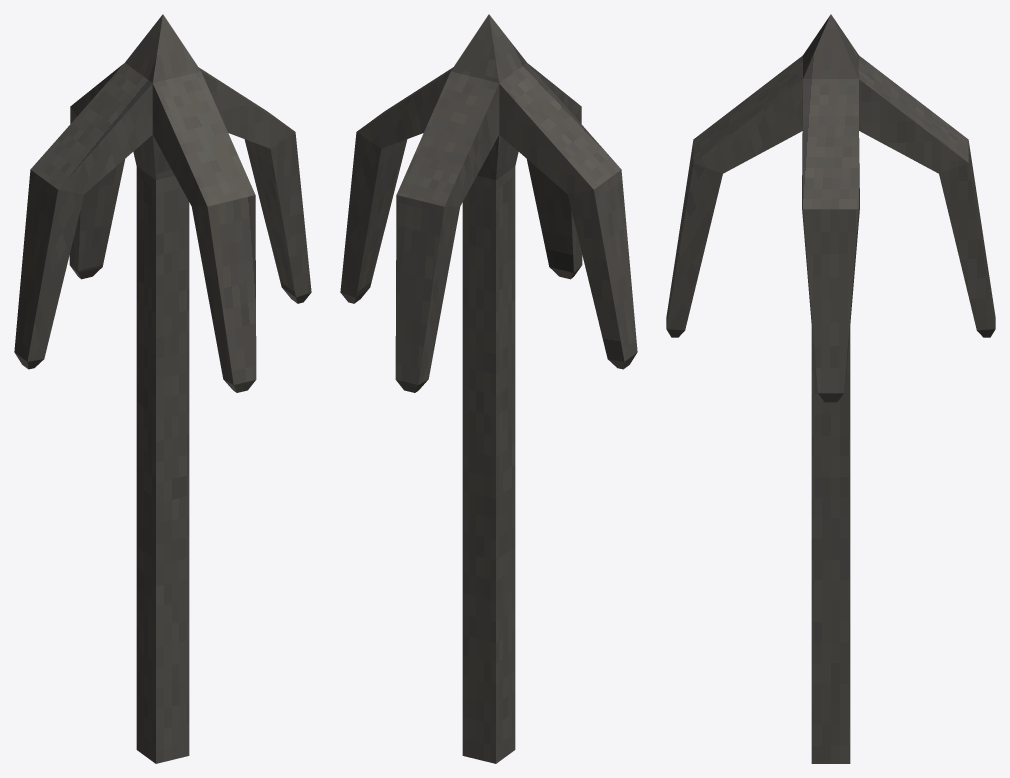
File: GrappleHook.glb
3 views of the same model, side by side, from view 1: azimuth 30°, elevation 25°; view 2: azimuth 150°, elevation 25°; view 3: azimuth 270°, elevation 25° (orthographic).
Visible parts, largest first — view 1: Cylinder.001; view 2: Cylinder.001; view 3: Cylinder.001.
Boxes of the visible parts, x1=… form: Cylinder.001: x1=14, y1=14, x2=311, y2=763; Cylinder.001: x1=340, y1=14, x2=637, y2=763; Cylinder.001: x1=666, y1=14, x2=995, y2=763.
Size of the model in its own units: 1.07 by 2.66 by 1.07.
Materials: 1 (1 with a texture image).
